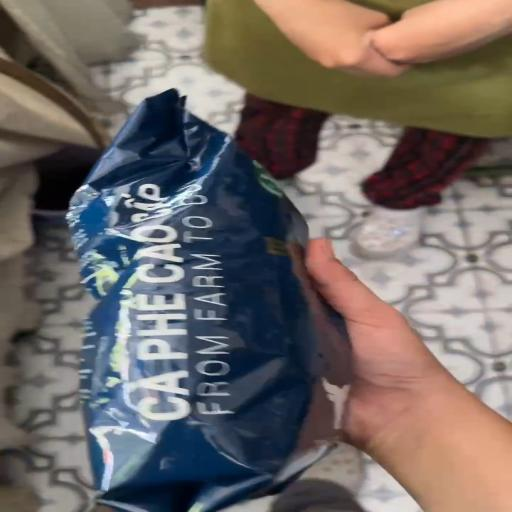cafe_hat: (68, 90, 351, 512)
